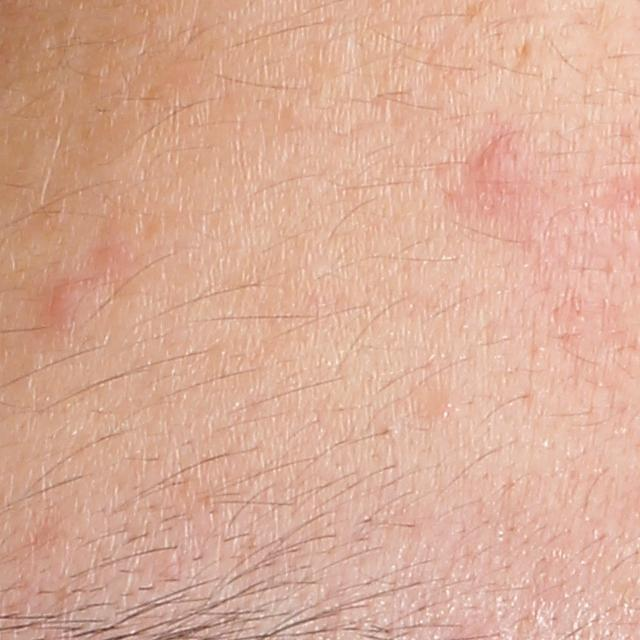papule: (41, 277, 101, 338), (464, 134, 518, 195)
